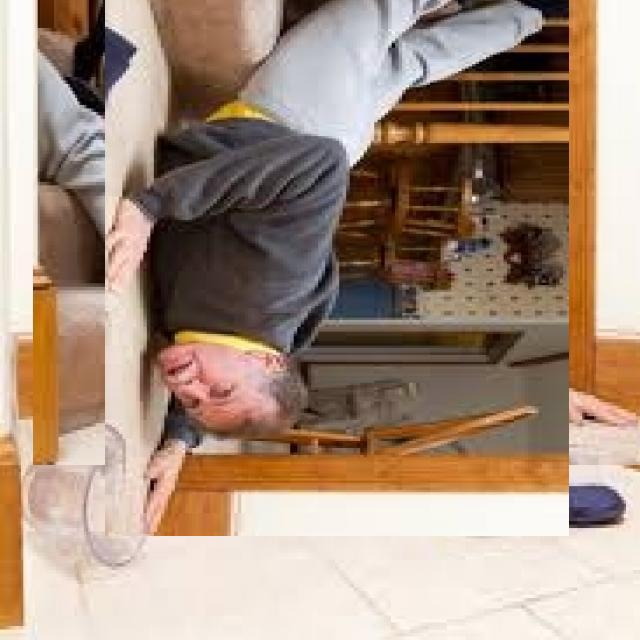Fall: (108, 3, 566, 535)
